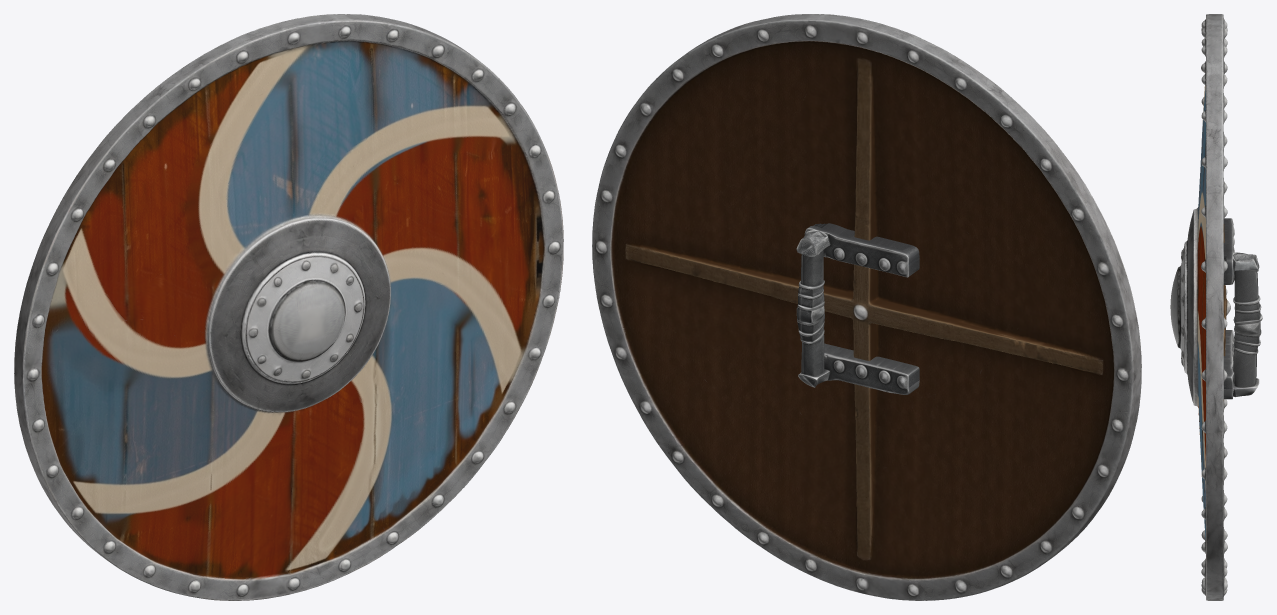
The model's file is ShieldMain.glb.
3 views of the same model, side by side, from view 1: azimuth 30°, elevation 25°; view 2: azimuth 150°, elevation 25°; view 3: azimuth 270°, elevation 25° (orthographic). The views are drawn at different scales.
Parts seen in each view (by area): view 1: Meshy_AI_Viking_Pinwheel_Shield_20261021_texture; view 2: Meshy_AI_Viking_Pinwheel_Shield_20261021_texture; view 3: Meshy_AI_Viking_Pinwheel_Shield_20261021_texture.
Part boxes in pixels (x1,y1,x2,y2): Meshy_AI_Viking_Pinwheel_Shield_20261021_texture: [14, 14, 563, 600]; Meshy_AI_Viking_Pinwheel_Shield_20261021_texture: [592, 14, 1141, 600]; Meshy_AI_Viking_Pinwheel_Shield_20261021_texture: [1170, 14, 1262, 600].
Bounding box in the file's own units: 1.9 × 1.9 × 0.2975.
2 materials, 2 textured.
